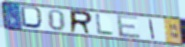0: (46, 9, 67, 32)
D: (20, 5, 47, 31)
E: (115, 14, 142, 40)
I: (148, 18, 156, 40)
L: (94, 14, 115, 37)
R: (69, 9, 94, 36)
